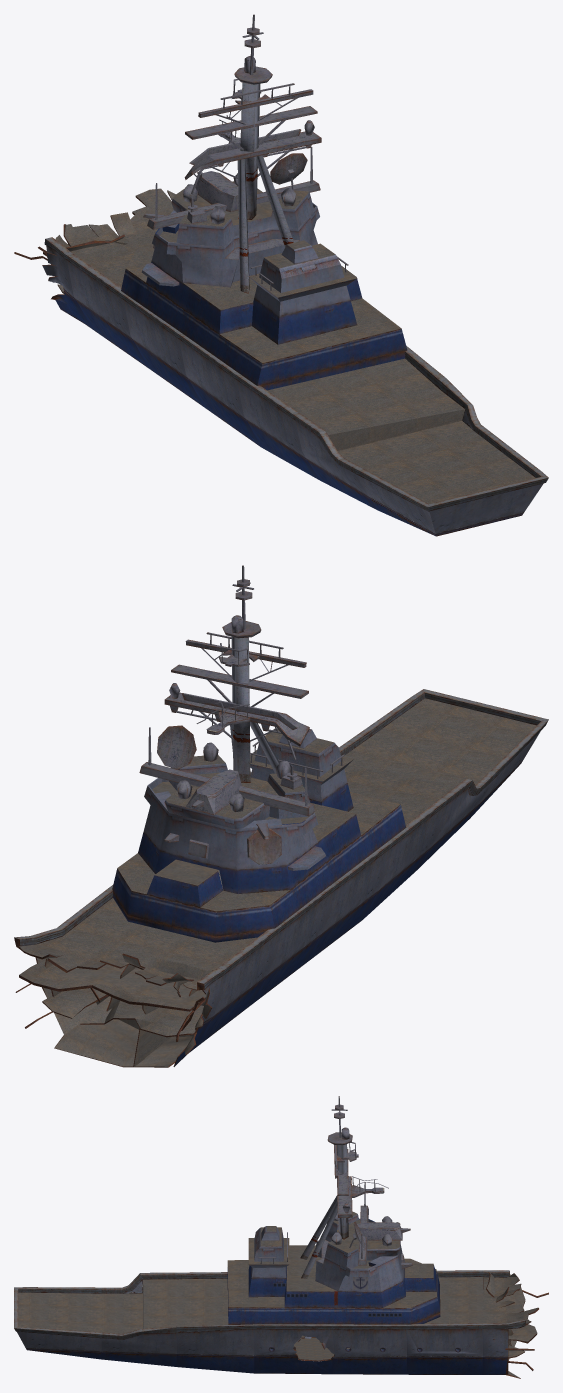
Rendered from Prop_DjShip003b.glb.
The picture shows the model from 3 angles, top to bottom: view 1: azimuth 30°, elevation 25°; view 2: azimuth 150°, elevation 25°; view 3: azimuth 270°, elevation 25°; orthographic projection. The views are drawn at different scales.
Visible parts, largest first — view 1: dj_ship003b_0; view 2: dj_ship003b_0; view 3: dj_ship003b_0.
Boxes of the visible parts, x1,y1,x2,y2 form: dj_ship003b_0: (14, 14, 548, 536); dj_ship003b_0: (14, 565, 548, 1067); dj_ship003b_0: (14, 1096, 548, 1378).
Size of the model in its own units: 28.44 by 60.19 by 106.
2 materials, 2 textured.
